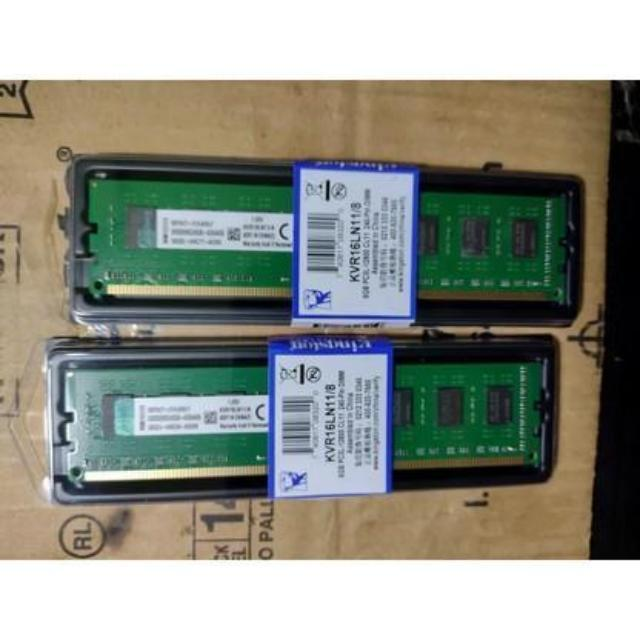RAM: (83, 177, 569, 320), (68, 355, 550, 487)
